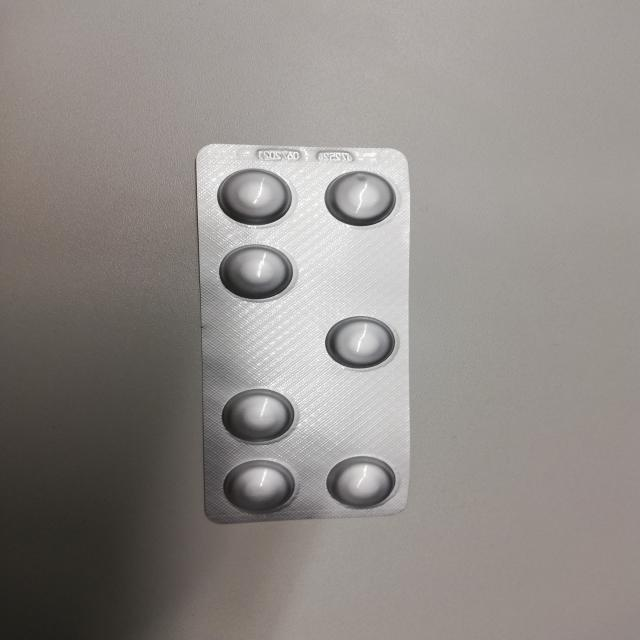Pill: (213, 168, 298, 228), (216, 244, 296, 304), (320, 169, 398, 228), (219, 458, 297, 516), (220, 388, 298, 445), (322, 315, 398, 370), (324, 455, 398, 511)
